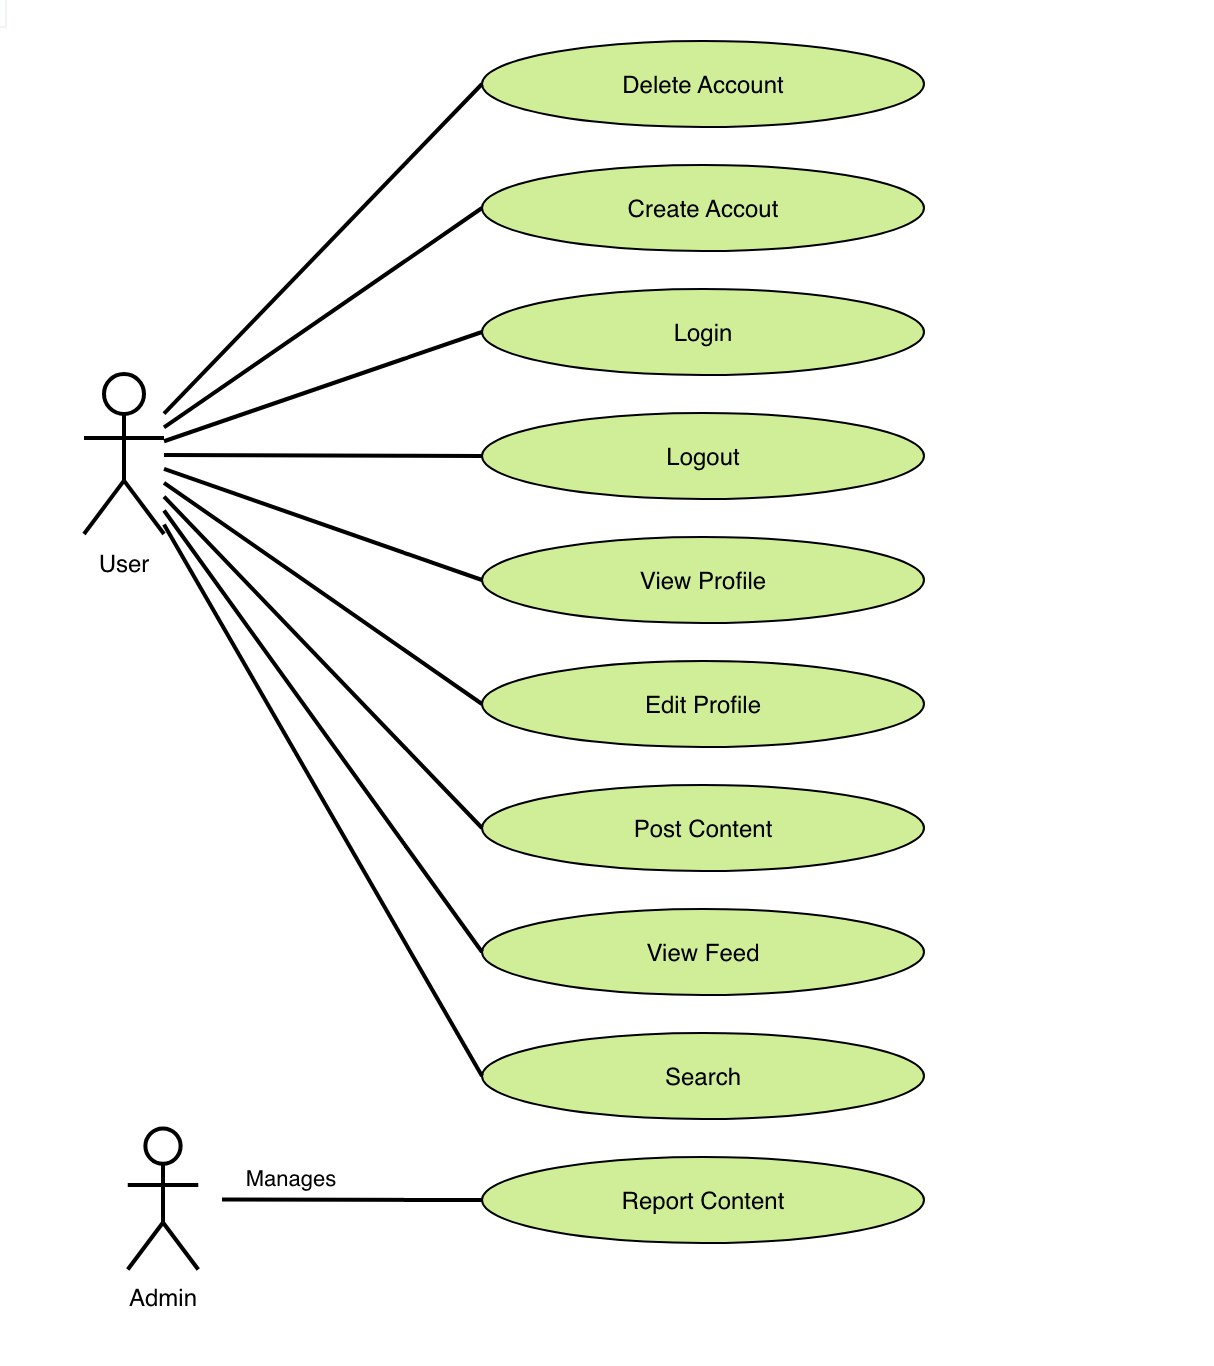actor: (123, 1122, 205, 1273), (86, 369, 159, 537)
association: (166, 526, 482, 1075), (165, 498, 484, 956), (157, 78, 482, 421), (162, 494, 482, 829), (162, 479, 480, 705), (162, 207, 480, 429), (163, 327, 480, 443), (163, 467, 479, 581), (217, 1179, 483, 1221), (163, 439, 484, 472)
text: (614, 810, 799, 854), (609, 1183, 799, 1224), (611, 63, 796, 104), (632, 556, 786, 602), (618, 191, 789, 228), (643, 682, 771, 731), (630, 929, 768, 972), (649, 1052, 768, 1099), (662, 308, 755, 358), (662, 438, 756, 481), (232, 1161, 352, 1189), (90, 546, 168, 583), (120, 1283, 204, 1314)
use_case: (482, 36, 923, 135), (480, 530, 927, 627), (479, 284, 927, 380), (480, 1150, 927, 1247), (480, 160, 925, 255), (480, 1029, 925, 1123), (479, 409, 928, 503), (479, 907, 928, 1000), (478, 657, 928, 750), (477, 781, 927, 874)
